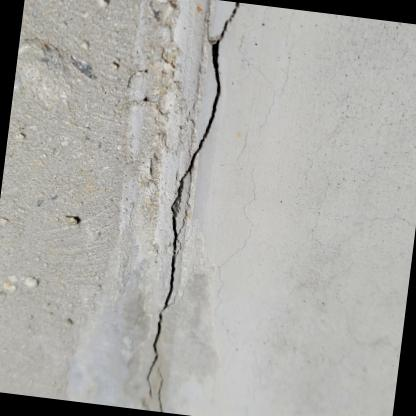crack: (145, 2, 241, 401), (156, 365, 164, 412)
